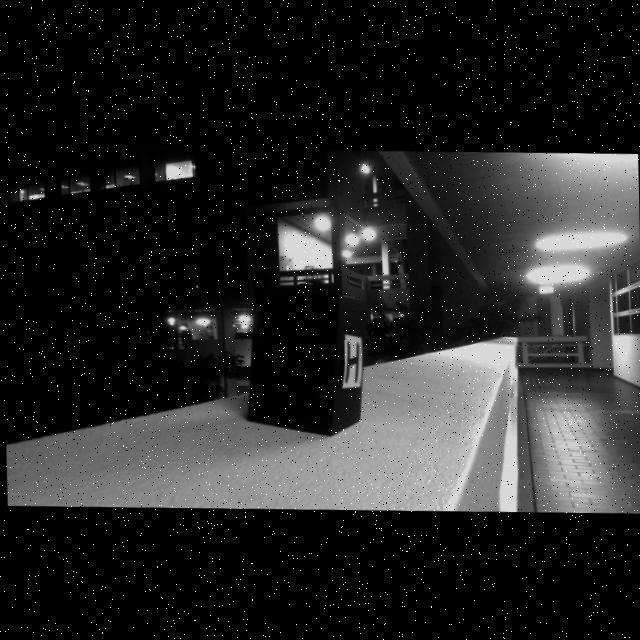H: (345, 338, 358, 381)
